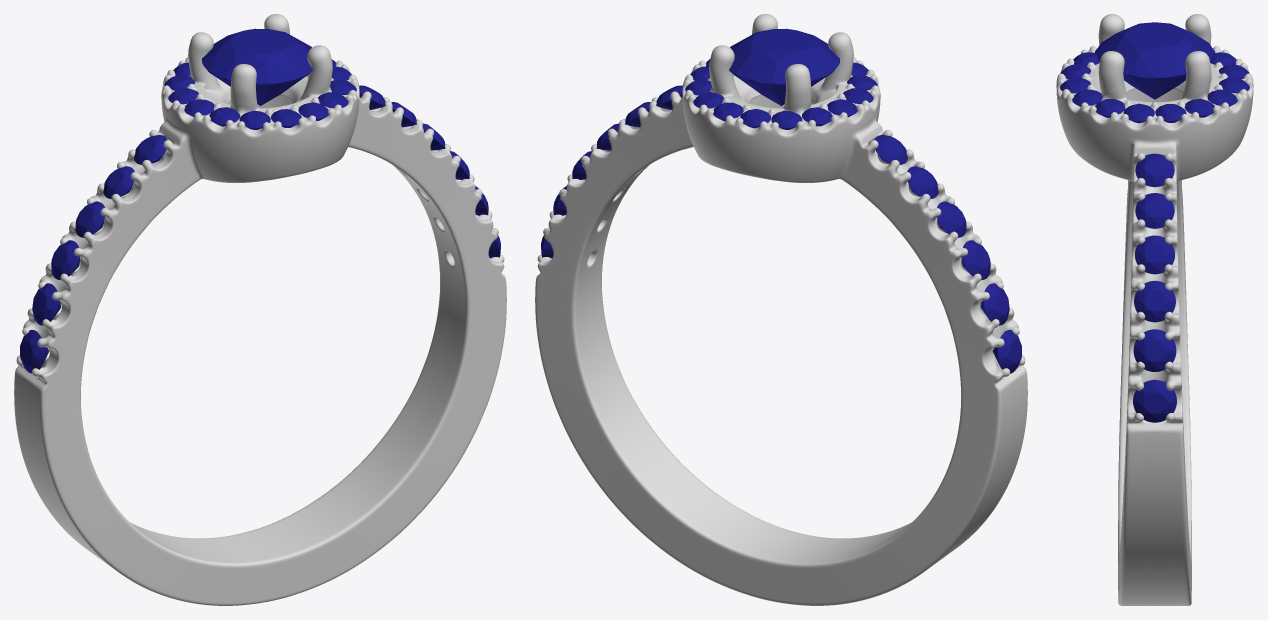
The model's file is jewellery.glb.
The picture shows the model from 3 angles, left to right: view 1: azimuth 30°, elevation 25°; view 2: azimuth 150°, elevation 25°; view 3: azimuth 270°, elevation 25°; orthographic projection.
Parts seen in each view (by area): view 1: band, diamond_main, diamond_right_05, diamond_right_04, diamond_right_03, diamond_right_02, diamond_right_01, diamond_right_00; view 2: band, diamond_main, diamond_right_05, diamond_right_04, diamond_right_03, diamond_right_02, diamond_right_01, diamond_right_00; view 3: band, diamond_main, diamond_left_05, diamond_left_04, diamond_left_03, diamond_left_02, diamond_left_01, diamond_left_00, diamond_ring_15, diamond_ring_00, diamond_ring_14, diamond_ring_01 (+6 smaller).
Part boxes in pixels (x1,y1,x2,y2): band: [14, 14, 506, 605]; diamond_main: [202, 28, 312, 105]; diamond_right_05: [20, 330, 49, 373]; diamond_right_04: [32, 283, 60, 325]; diamond_right_03: [51, 240, 79, 280]; diamond_right_02: [75, 201, 104, 237]; diamond_right_01: [103, 166, 134, 199]; diamond_right_00: [134, 135, 167, 164]; band: [535, 14, 1027, 605]; diamond_main: [729, 28, 839, 105]; diamond_right_05: [992, 330, 1021, 373]; diamond_right_04: [981, 283, 1009, 325]; diamond_right_03: [962, 240, 990, 280]; diamond_right_02: [937, 201, 966, 237]; diamond_right_01: [907, 166, 938, 199]; diamond_right_00: [874, 135, 907, 164]; band: [1056, 14, 1253, 605]; diamond_main: [1096, 22, 1213, 99]; diamond_left_05: [1133, 379, 1176, 422]; diamond_left_04: [1133, 329, 1176, 371]; diamond_left_03: [1134, 280, 1175, 322]; diamond_left_02: [1135, 235, 1174, 274]; diamond_left_01: [1135, 193, 1174, 228]; diamond_left_00: [1135, 153, 1174, 187]; diamond_ring_15: [1123, 103, 1154, 123]; diamond_ring_00: [1155, 104, 1186, 122]; diamond_ring_14: [1095, 99, 1125, 117]; diamond_ring_01: [1184, 98, 1214, 117].
Size of what is drawn, in the model's own units: 0.0213 by 0.0235 by 0.00767.
